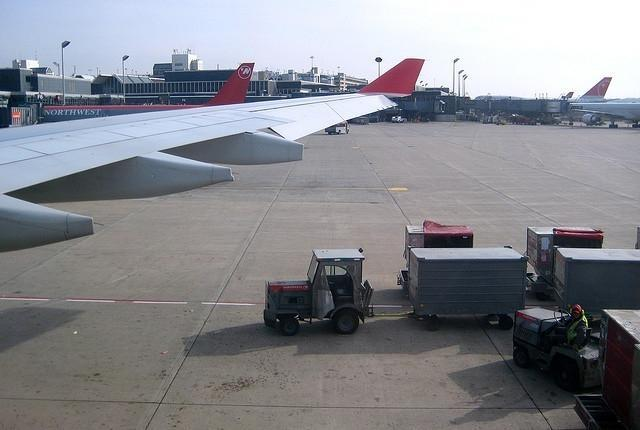truck: (402, 246, 528, 332), (262, 249, 375, 334), (392, 115, 404, 123)
